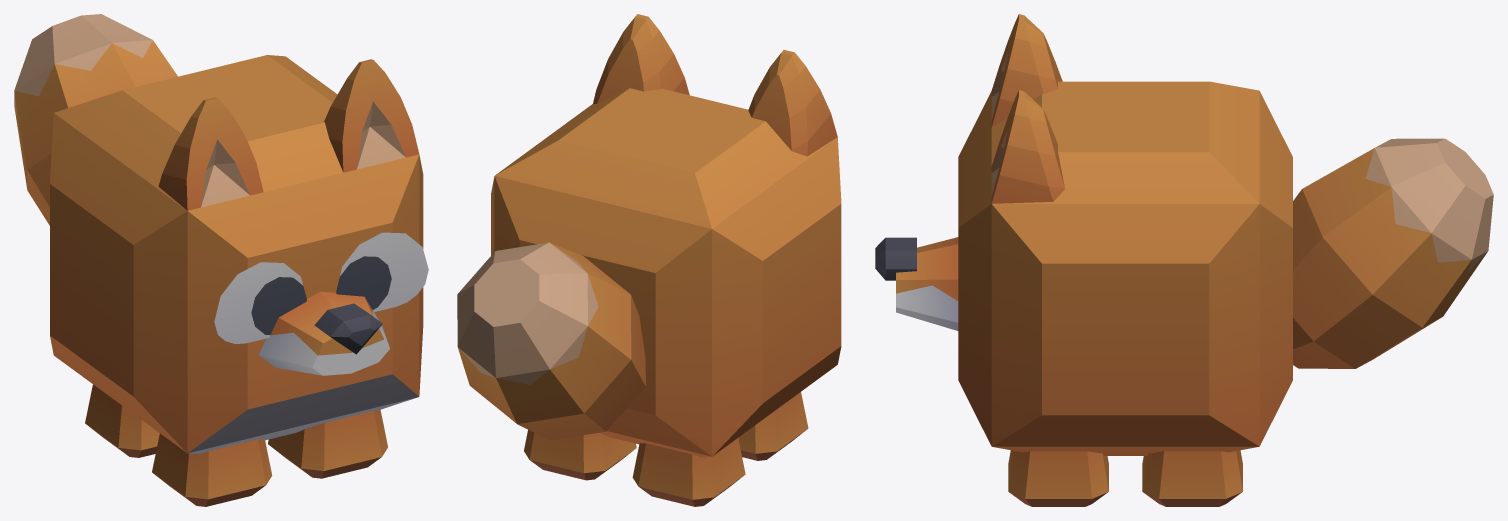
Rendered from animal-fox.glb.
The picture shows the model from 3 angles, left to right: view 1: azimuth 30°, elevation 25°; view 2: azimuth 150°, elevation 25°; view 3: azimuth 270°, elevation 25°; orthographic projection. The views are drawn at different scales.
Visible parts, largest first — view 1: geometry_0; view 2: geometry_0; view 3: geometry_0.
Part boxes in pixels (<box>): geometry_0: <box>14,14,428,506</box>; geometry_0: <box>457,14,841,506</box>; geometry_0: <box>875,14,1493,506</box>.
Size of the model in its own units: 0.5415 by 0.7305 by 1.
